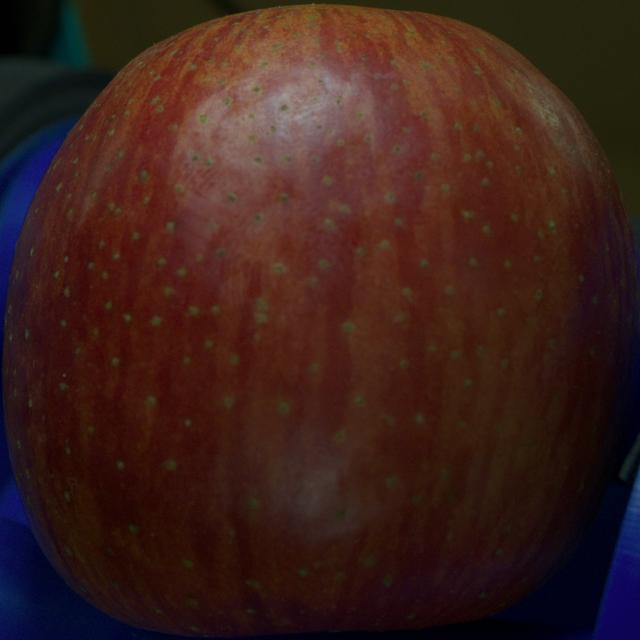apple: (0, 6, 639, 636)
